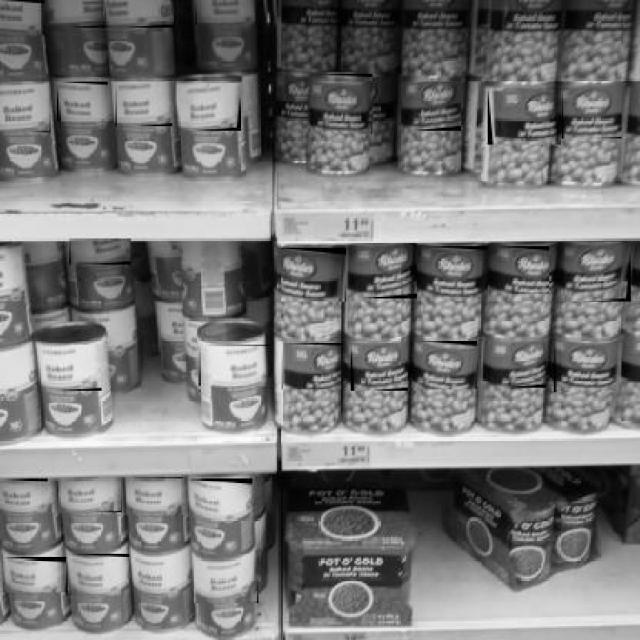Beans: (488, 86, 562, 146), (344, 243, 418, 300), (565, 242, 633, 303), (554, 334, 623, 394), (276, 248, 349, 303), (311, 74, 374, 135), (423, 246, 489, 300), (562, 85, 623, 140), (194, 554, 260, 604), (398, 81, 462, 132), (414, 340, 478, 391), (198, 344, 272, 388), (34, 345, 103, 392), (180, 83, 242, 132), (490, 337, 548, 389), (282, 343, 343, 391), (188, 478, 254, 522), (351, 343, 409, 392), (66, 554, 131, 597), (116, 82, 175, 128), (498, 246, 551, 296), (0, 84, 52, 133), (3, 556, 68, 595), (59, 477, 123, 514), (126, 478, 185, 518), (58, 82, 110, 123), (103, 2, 175, 29), (70, 239, 132, 267), (0, 0, 46, 37), (4, 478, 50, 514), (195, 0, 257, 26), (49, 2, 106, 30)
